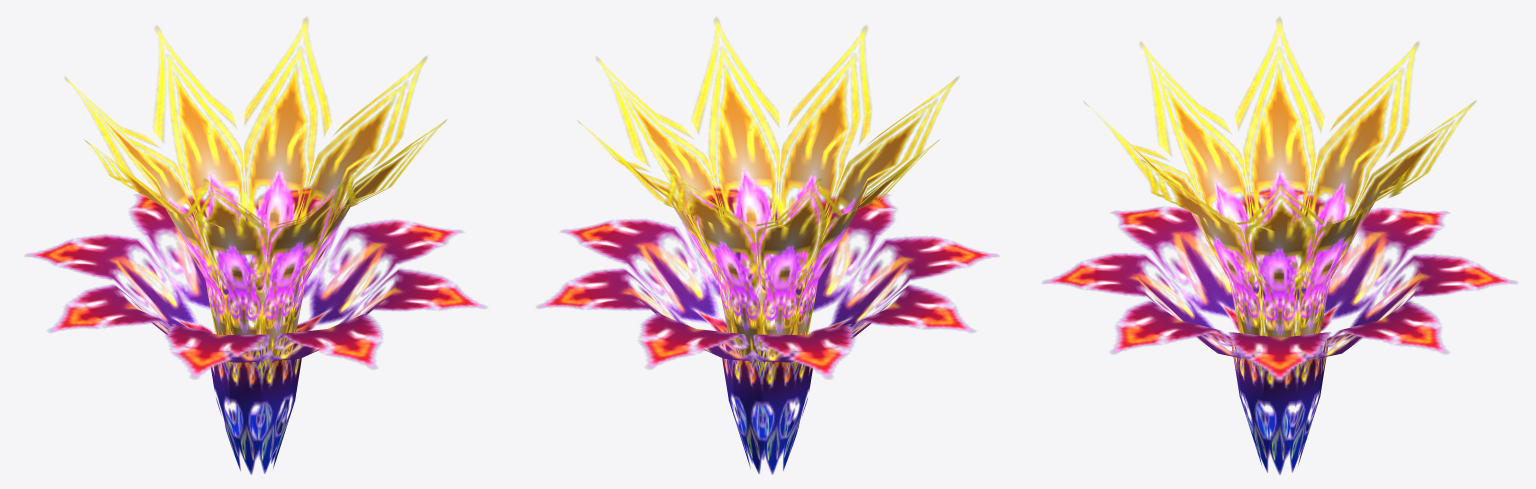
Rendered from Plant_leaf_01.glb.
The picture shows the model from 3 angles, left to right: view 1: azimuth 30°, elevation 25°; view 2: azimuth 150°, elevation 25°; view 3: azimuth 270°, elevation 25°; orthographic projection.
Parts seen in each view (by area): view 1: Plant_01; view 2: Plant_01; view 3: Plant_01.
Boxes of the visible parts, x1,y1,x2,y2 form: Plant_01: (25,17,486,474); Plant_01: (537,17,998,474); Plant_01: (1042,17,1517,474).
Size of what is drawn, in the model's own units: 1.69 by 1.42 by 1.69.
1 material, 1 textured.
